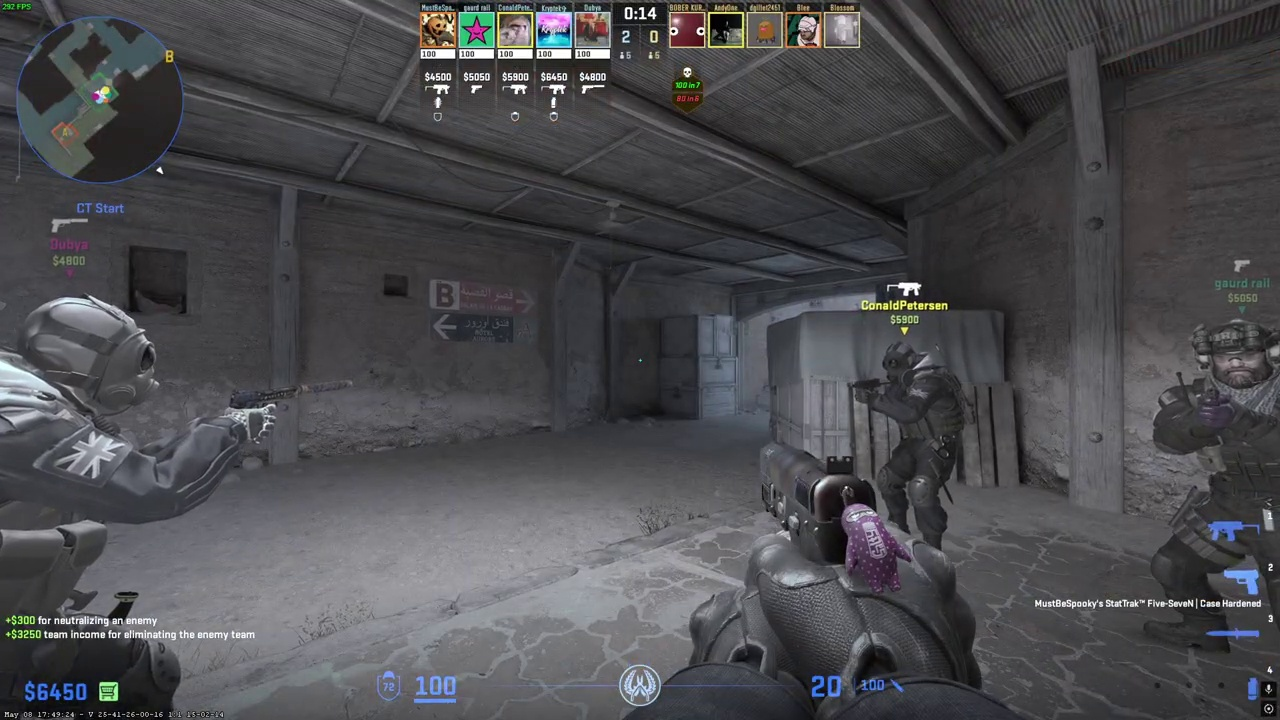CT: (1, 292, 195, 716), (1136, 317, 1279, 647), (867, 341, 966, 552)
